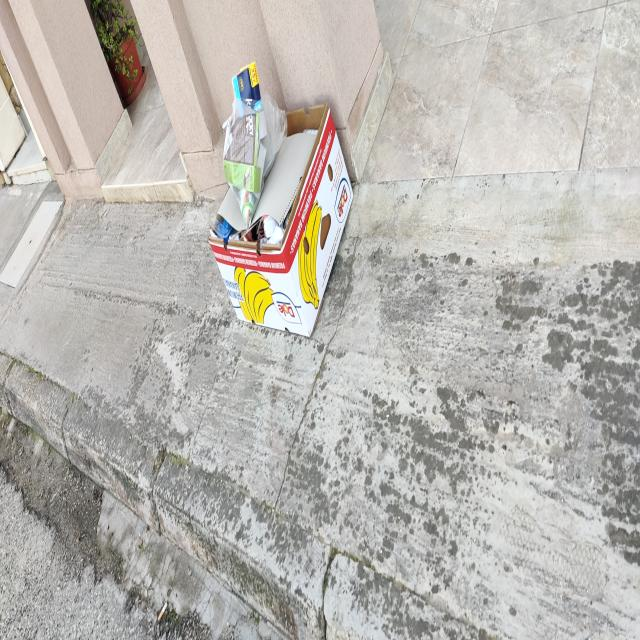Others Waste: (207, 58, 355, 341)
